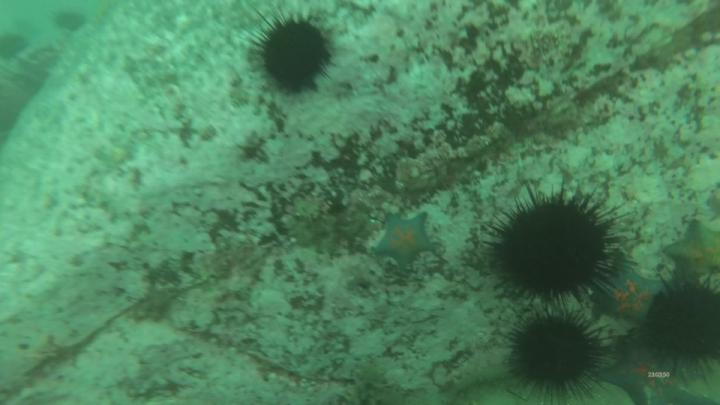echinus: (491, 200, 606, 296), (512, 315, 597, 389), (659, 282, 720, 365), (261, 24, 330, 93)
starfish: (604, 347, 708, 405), (597, 252, 658, 323), (375, 216, 435, 270), (666, 222, 720, 280)
